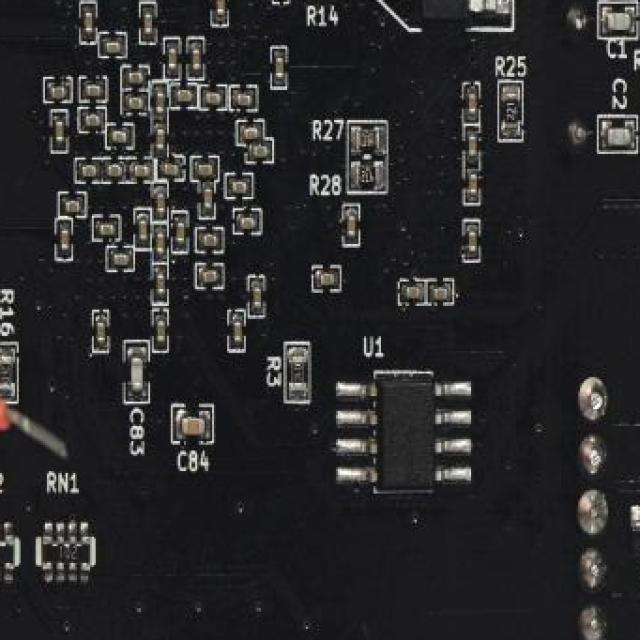IC: (376, 375, 436, 492), (419, 0, 469, 21)
capacitor: (606, 11, 633, 32), (130, 357, 144, 396), (180, 417, 207, 437), (606, 128, 632, 148), (112, 253, 130, 270), (86, 82, 104, 99), (80, 163, 98, 180), (244, 125, 261, 142), (133, 163, 150, 180), (107, 163, 124, 180), (112, 130, 130, 146), (176, 88, 194, 104), (204, 90, 222, 106), (236, 92, 254, 108), (202, 232, 220, 248), (202, 268, 220, 284), (84, 11, 95, 36), (54, 120, 65, 145), (176, 221, 187, 246), (253, 285, 264, 310), (467, 133, 478, 158), (105, 40, 122, 56), (51, 86, 68, 102), (85, 112, 102, 128), (128, 95, 144, 112), (253, 144, 270, 160), (231, 180, 248, 196), (434, 287, 451, 303), (197, 162, 214, 178), (163, 162, 180, 178), (64, 199, 81, 215), (240, 216, 257, 232), (319, 272, 336, 288), (467, 92, 478, 116), (191, 47, 202, 71), (347, 214, 358, 238), (467, 231, 478, 255), (467, 173, 478, 197), (128, 70, 144, 86), (100, 222, 116, 238), (406, 286, 422, 302), (143, 13, 153, 38), (274, 56, 284, 81), (156, 90, 166, 115), (60, 227, 70, 252), (156, 193, 166, 218), (156, 319, 166, 344), (167, 47, 177, 71), (156, 128, 166, 152), (139, 218, 149, 242), (156, 233, 166, 257), (203, 188, 213, 212), (156, 274, 166, 298), (96, 321, 106, 345), (233, 321, 243, 345), (216, 0, 225, 17)
resistor: (41, 533, 93, 572), (291, 355, 308, 394), (503, 90, 520, 129), (355, 163, 381, 188), (355, 128, 381, 152), (0, 533, 15, 572), (0, 353, 15, 392)
transistor: (628, 527, 640, 557)
